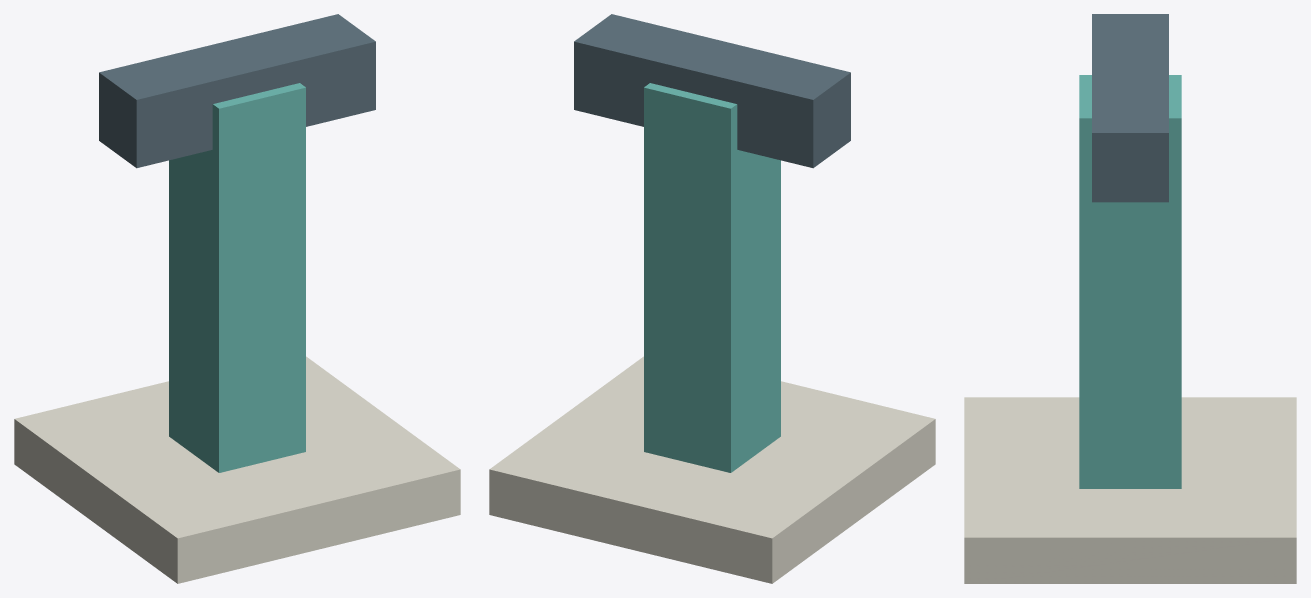
Rendered from voxel-city-districts-removable-bollard-2a702ab3__24839.glb.
3 views of the same model, side by side, from view 1: azimuth 30°, elevation 25°; view 2: azimuth 150°, elevation 25°; view 3: azimuth 270°, elevation 25° (orthographic).
Parts seen in each view (by area): view 1: removable-bollard-concrete, removable-bollard-accent, removable-bollard-dark; view 2: removable-bollard-concrete, removable-bollard-accent, removable-bollard-dark; view 3: removable-bollard-concrete, removable-bollard-accent, removable-bollard-dark.
Part boxes in pixels (box(x1,y1,x2,y2)): removable-bollard-concrete: box(14, 356, 460, 583); removable-bollard-accent: box(169, 83, 305, 472); removable-bollard-dark: box(99, 14, 375, 168); removable-bollard-concrete: box(489, 356, 935, 583); removable-bollard-accent: box(644, 83, 780, 472); removable-bollard-dark: box(574, 14, 850, 168); removable-bollard-concrete: box(964, 397, 1296, 583); removable-bollard-accent: box(1079, 75, 1181, 488); removable-bollard-dark: box(1092, 14, 1168, 202).
Size of the model in its own units: 0.65 by 0.95 by 0.65.
